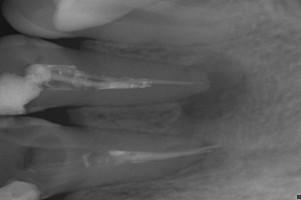Furcation Involvement: (178, 54, 248, 121), (165, 139, 231, 179)
